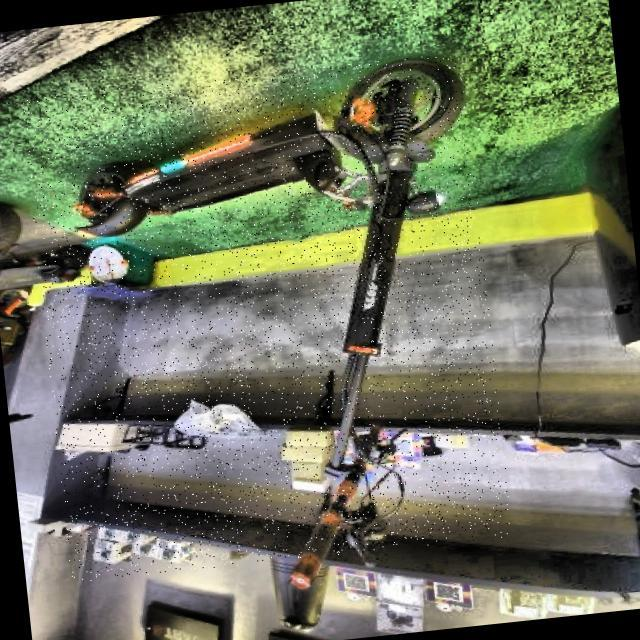bike: (1, 58, 503, 638)
